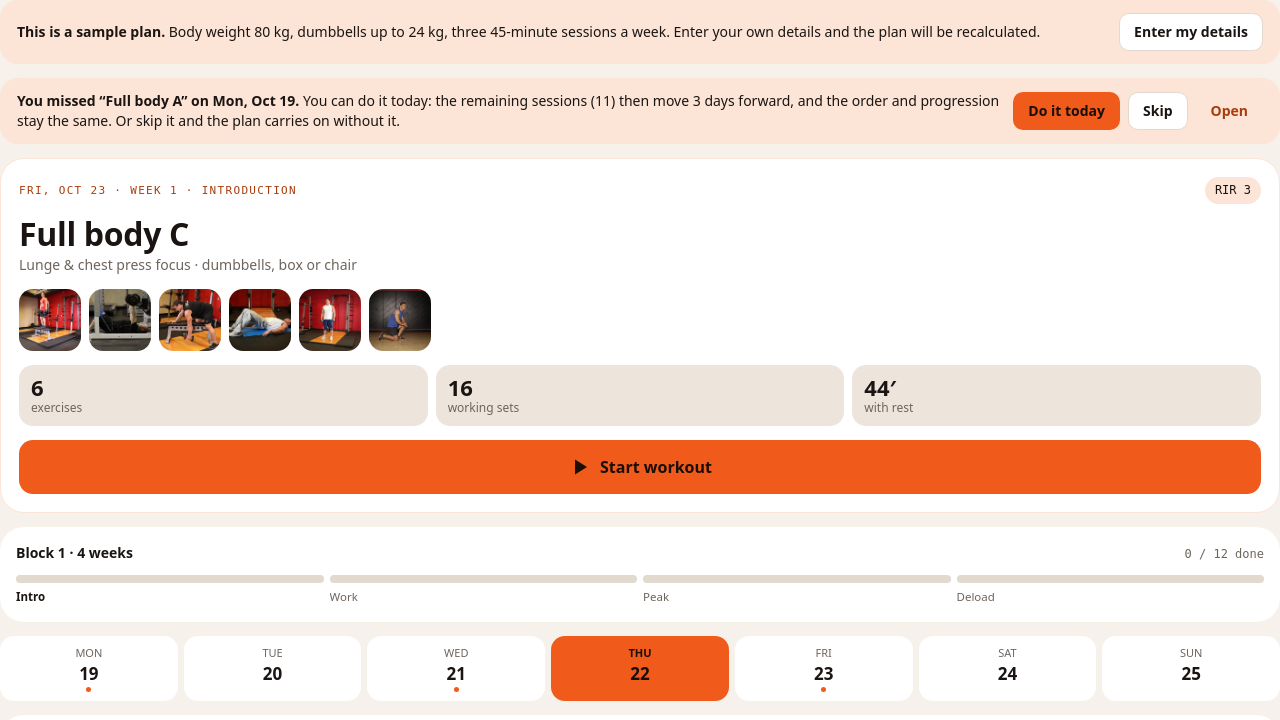
Scenario: PlanScreen: missed sessions › moves the plan when the session is done today
Step 1. Click the button "Do it today" → (1067, 111), box [1013,92,1120,130]
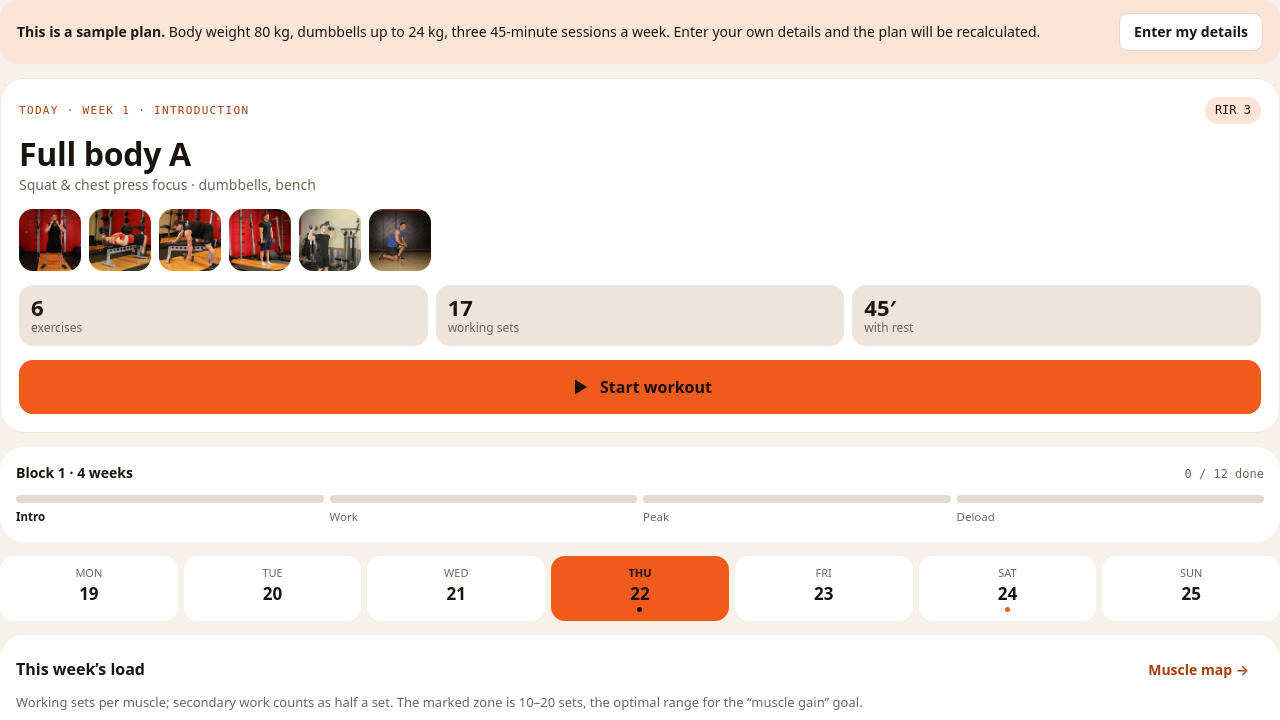
Expected: the message is gone
Expected: the element "Full body A" shows "Today", [19,104,249,117]
